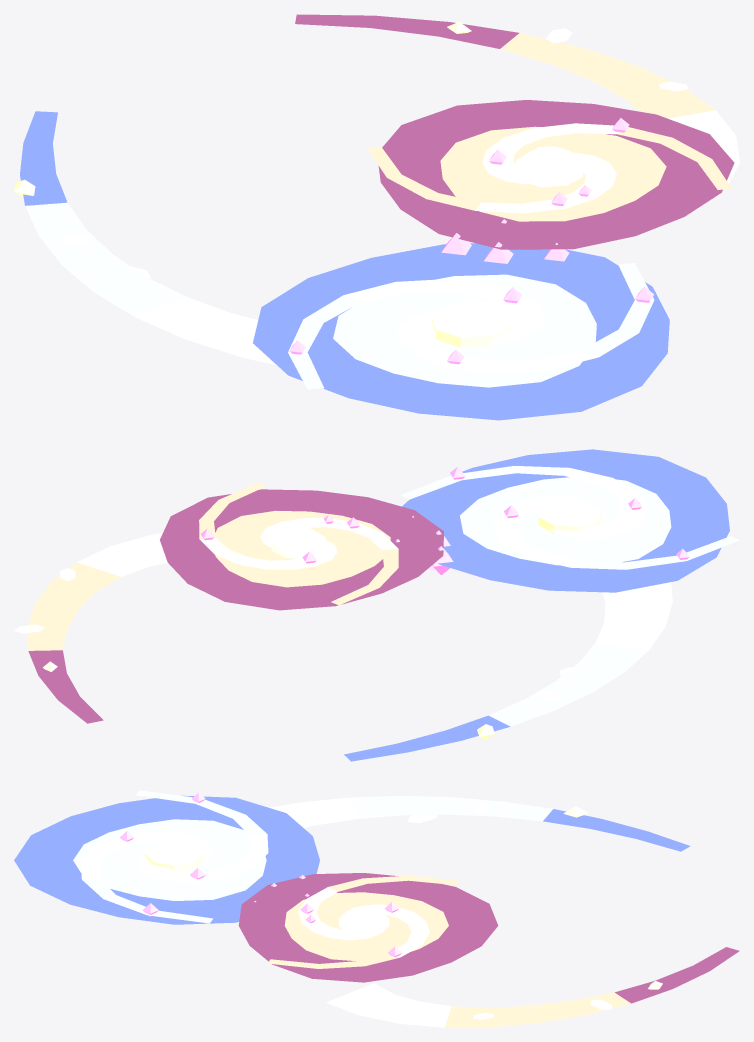
The model's file is colliding_galaxy.glb.
The picture shows the model from 3 angles, top to bottom: view 1: azimuth 30°, elevation 25°; view 2: azimuth 150°, elevation 25°; view 3: azimuth 270°, elevation 25°; orthographic projection. The views are drawn at different scales.
Parts seen in each view (by area): view 1: galaxy_a, galaxy_b, body; view 2: galaxy_a, galaxy_b, body; view 3: galaxy_a, galaxy_b, body.
Part boxes in pixels (x1,y1,x2,y2): galaxy_a: (253, 243, 669, 420); galaxy_b: (367, 100, 734, 249); body: (14, 14, 739, 365); galaxy_a: (401, 449, 739, 592); galaxy_b: (160, 482, 443, 610); body: (14, 516, 672, 761); galaxy_a: (14, 790, 319, 924); galaxy_b: (238, 873, 498, 982); body: (254, 795, 739, 1027).
Bounding box in the file's own units: 232 × 21.05 × 307.
